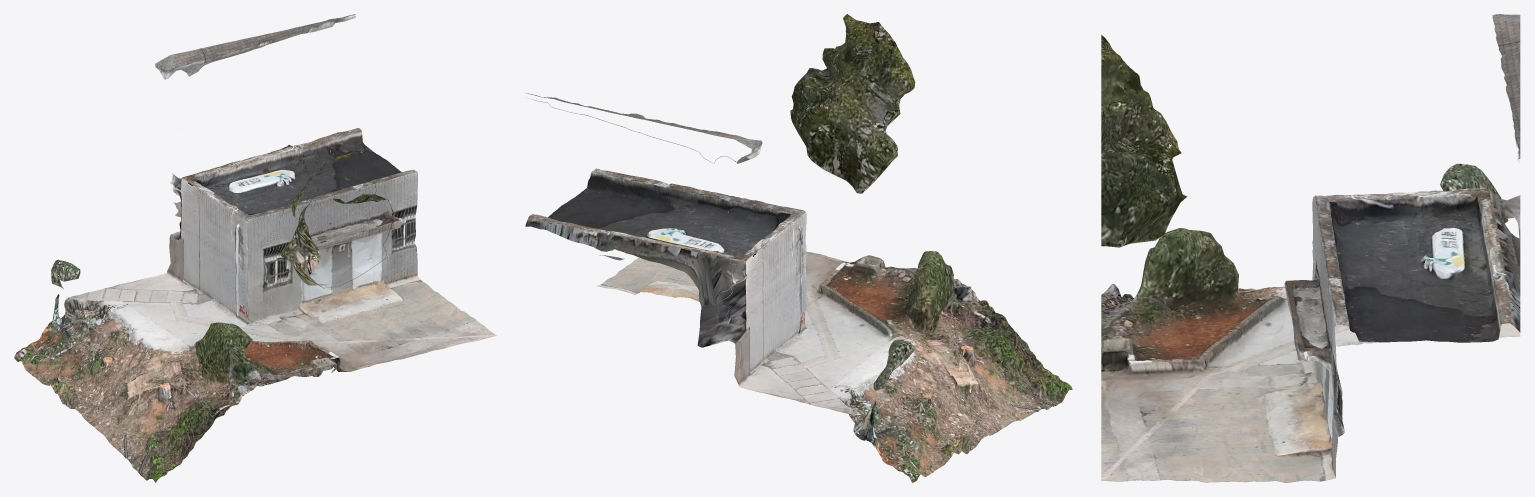
File: BlockYXBX_L21_56.glb
The picture shows the model from 3 angles, left to right: view 1: azimuth 30°, elevation 25°; view 2: azimuth 150°, elevation 25°; view 3: azimuth 270°, elevation 25°; orthographic projection. The views are drawn at different scales.
Visible parts, largest first — view 1: rtc; view 2: rtc; view 3: rtc.
Boxes of the visible parts, left/top/right/bottom form: rtc: left=14, top=14, right=496, bottom=482; rtc: left=525, top=14, right=1072, bottom=482; rtc: left=1101, top=14, right=1520, bottom=482.
Bounding box in the file's own units: 12.69 × 10.33 × 9.13.
3 materials, 3 textured.
